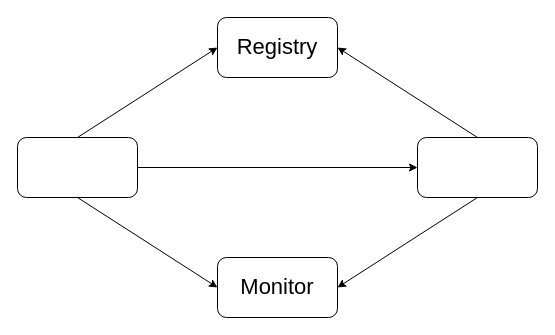
Some shapes in this 555 by 335 pixel diagram are drawn without their labels. Here are the shapes that lost their labels. From the top down, the centre of each, then its label:
At pixel 77 167: "Comsumer".
At pixel 477 167: "Provider".
